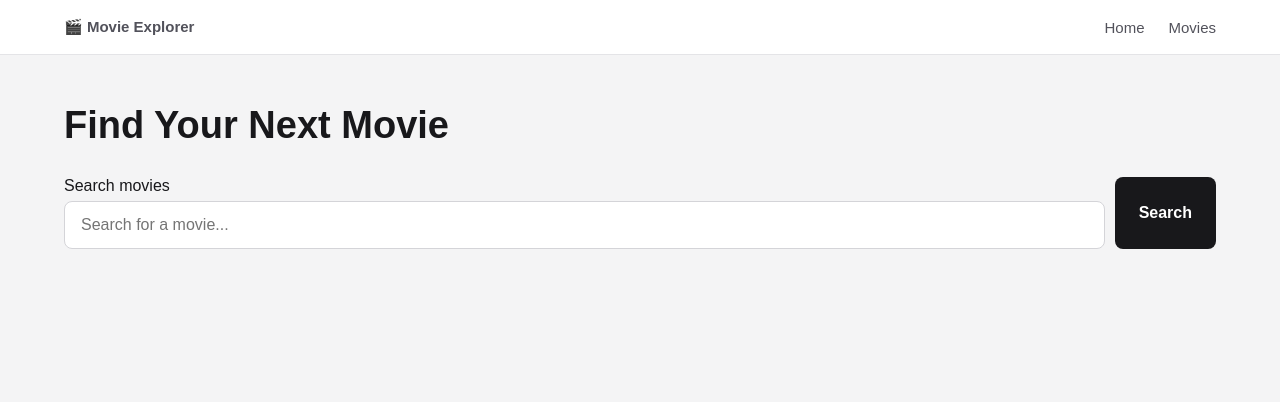
App integration tests › shows an error when searching without entering a movie name
Click the button "Search". click: (1165, 213)
box: [1115,177,1216,249]
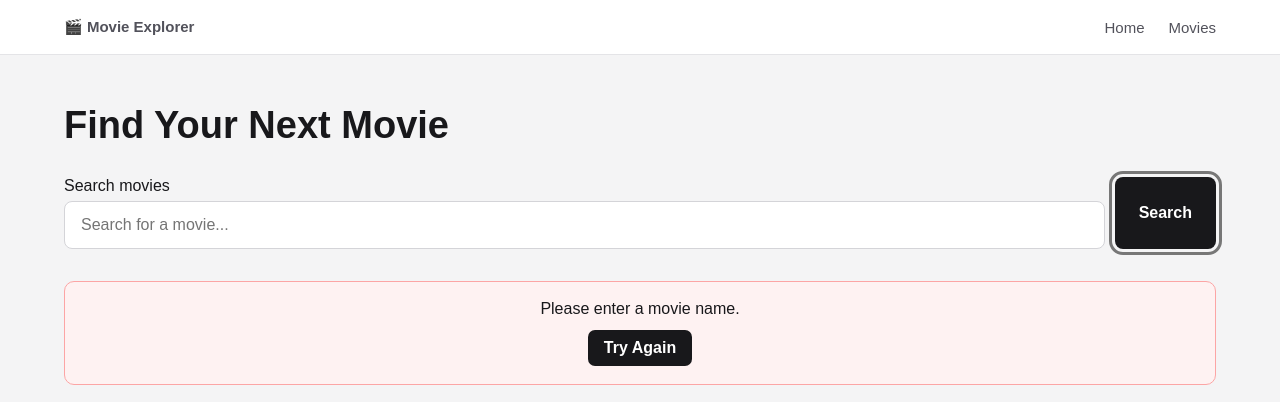
Expected: the text "Please enter a movie name." is shown, [540,300,740,317]
